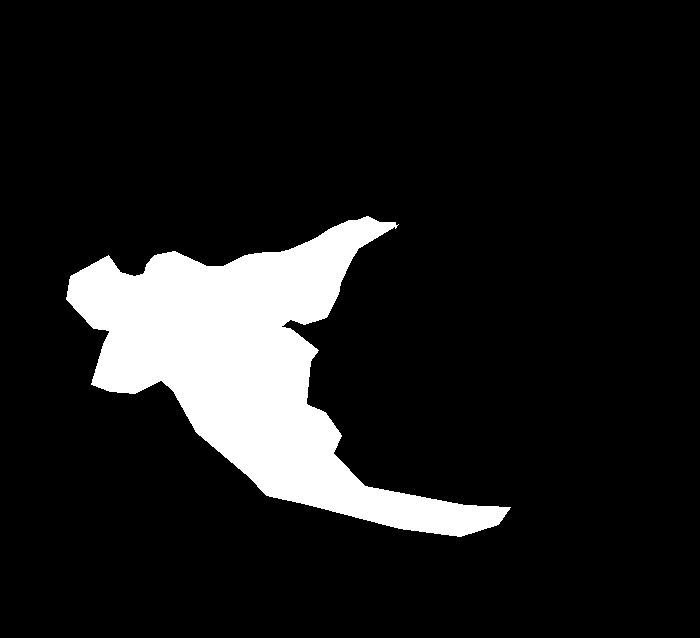Fire: (87, 216, 406, 468)
